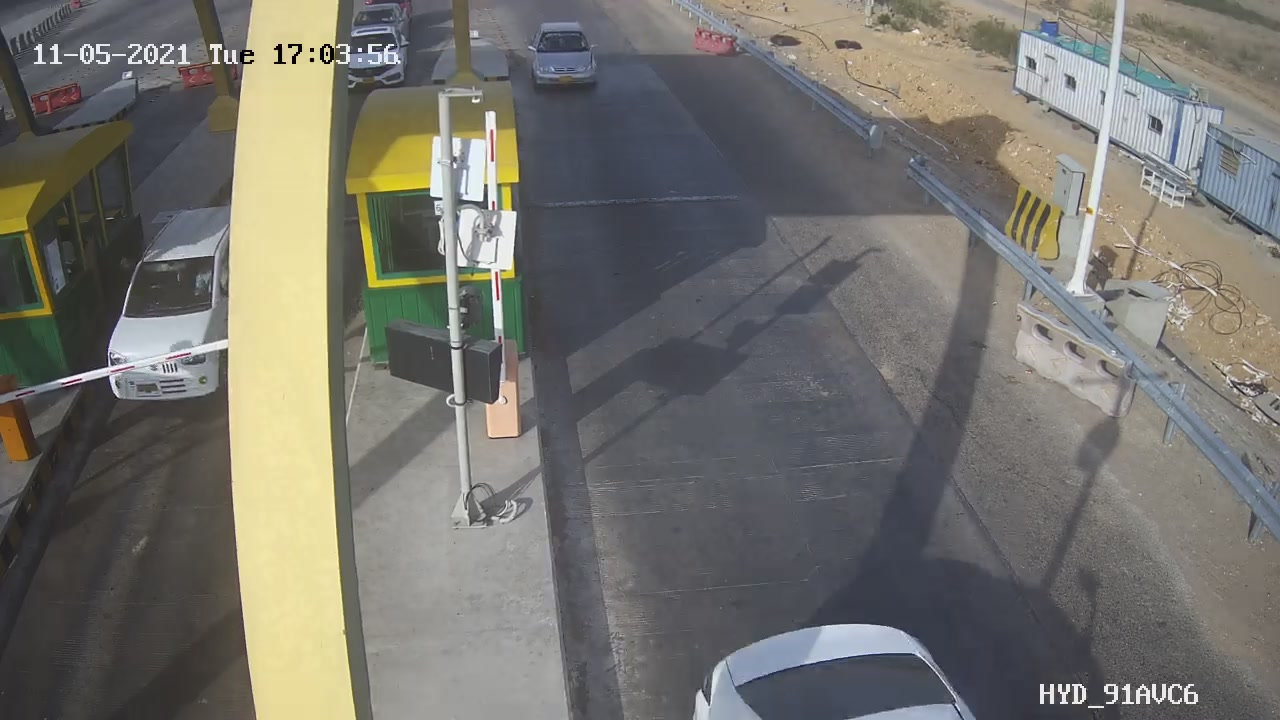F1: (518, 9, 611, 98)
